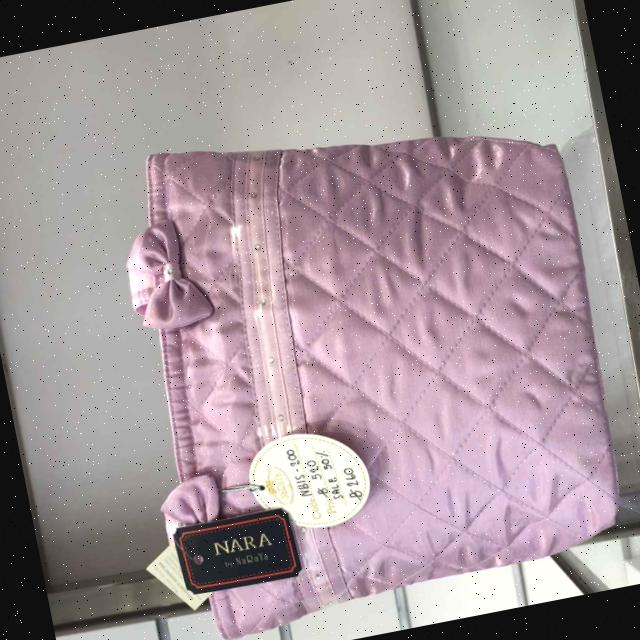Handbag: (65, 63, 640, 640)
